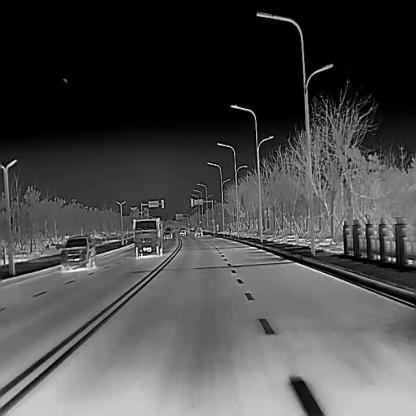car: (59, 234, 95, 271), (132, 218, 162, 257), (163, 227, 173, 238), (193, 226, 203, 236), (178, 227, 186, 236)
